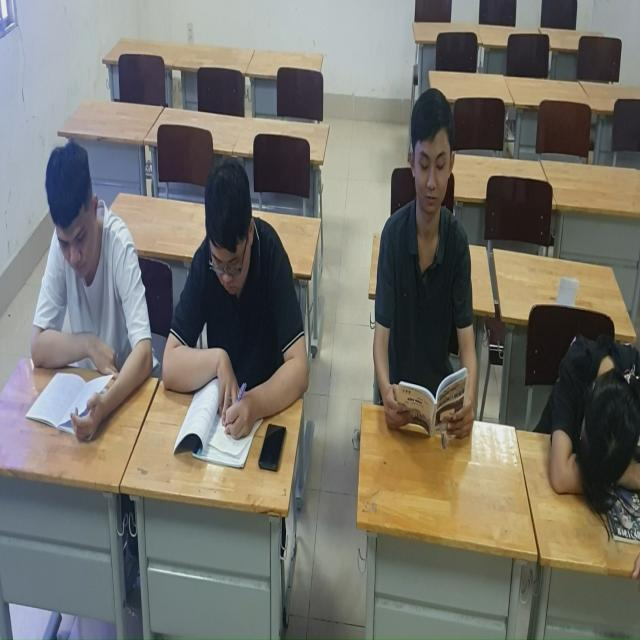read: (151, 140, 312, 475), (359, 86, 487, 470), (26, 139, 160, 451)
sleep: (541, 295, 640, 524)
